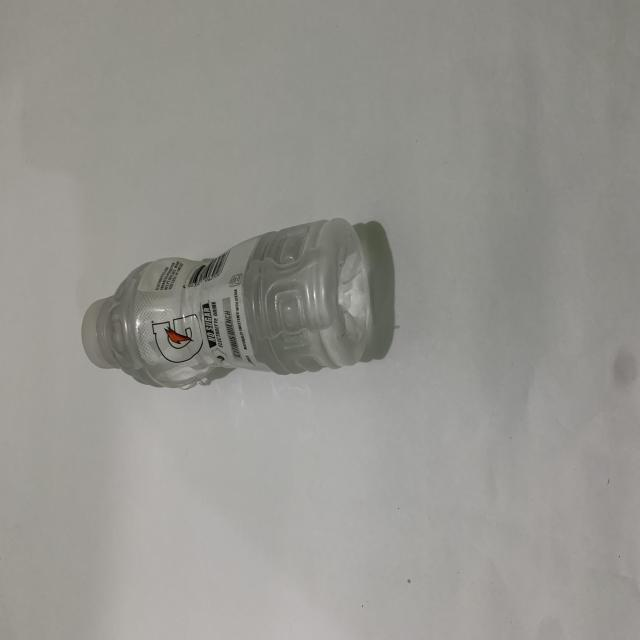bottle: (76, 140, 391, 439)
